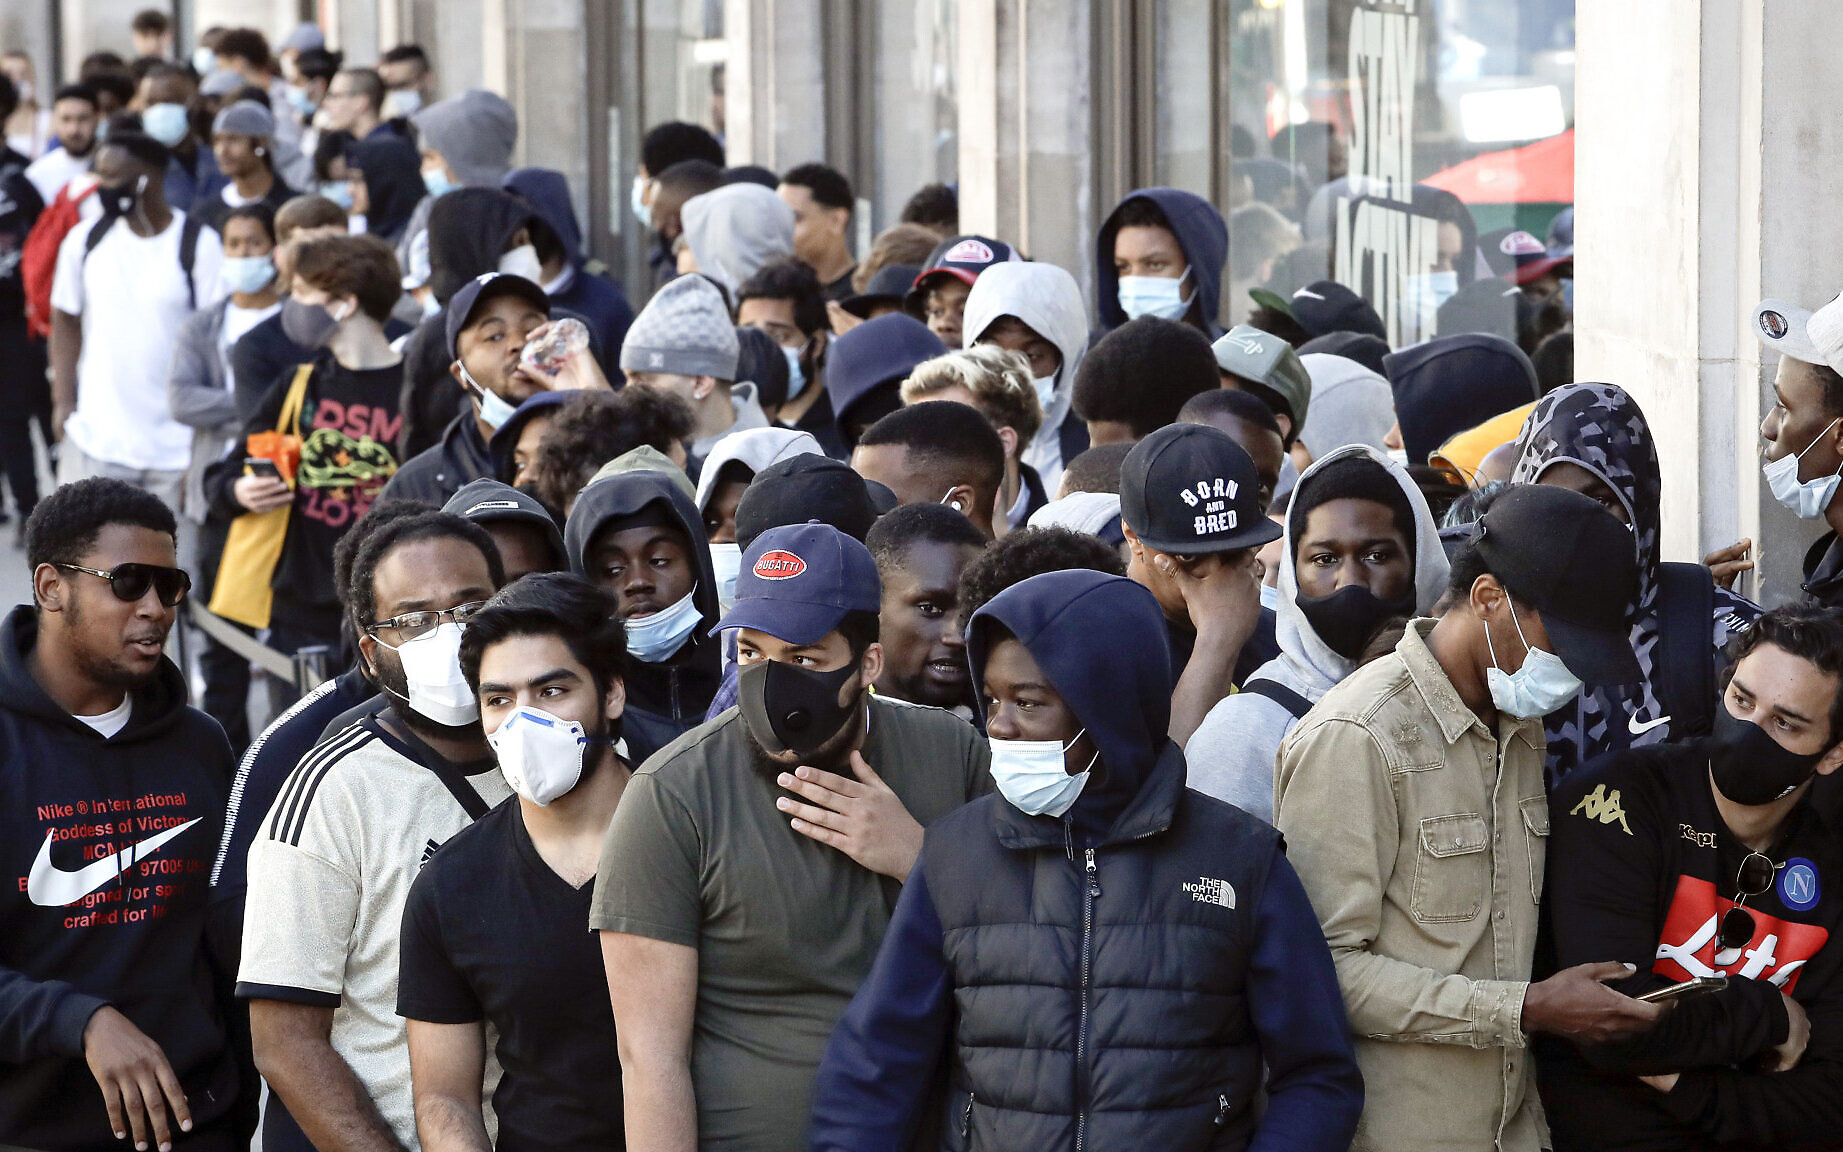mask_weared_incorrect: (581, 508, 713, 655), (1747, 362, 1843, 530), (450, 307, 563, 431)
with_mask: (353, 548, 503, 719), (472, 629, 599, 804), (1687, 665, 1835, 809), (722, 612, 869, 751), (1289, 500, 1413, 655), (1109, 233, 1193, 326)
without_mask: (46, 530, 183, 677), (877, 543, 984, 692)
